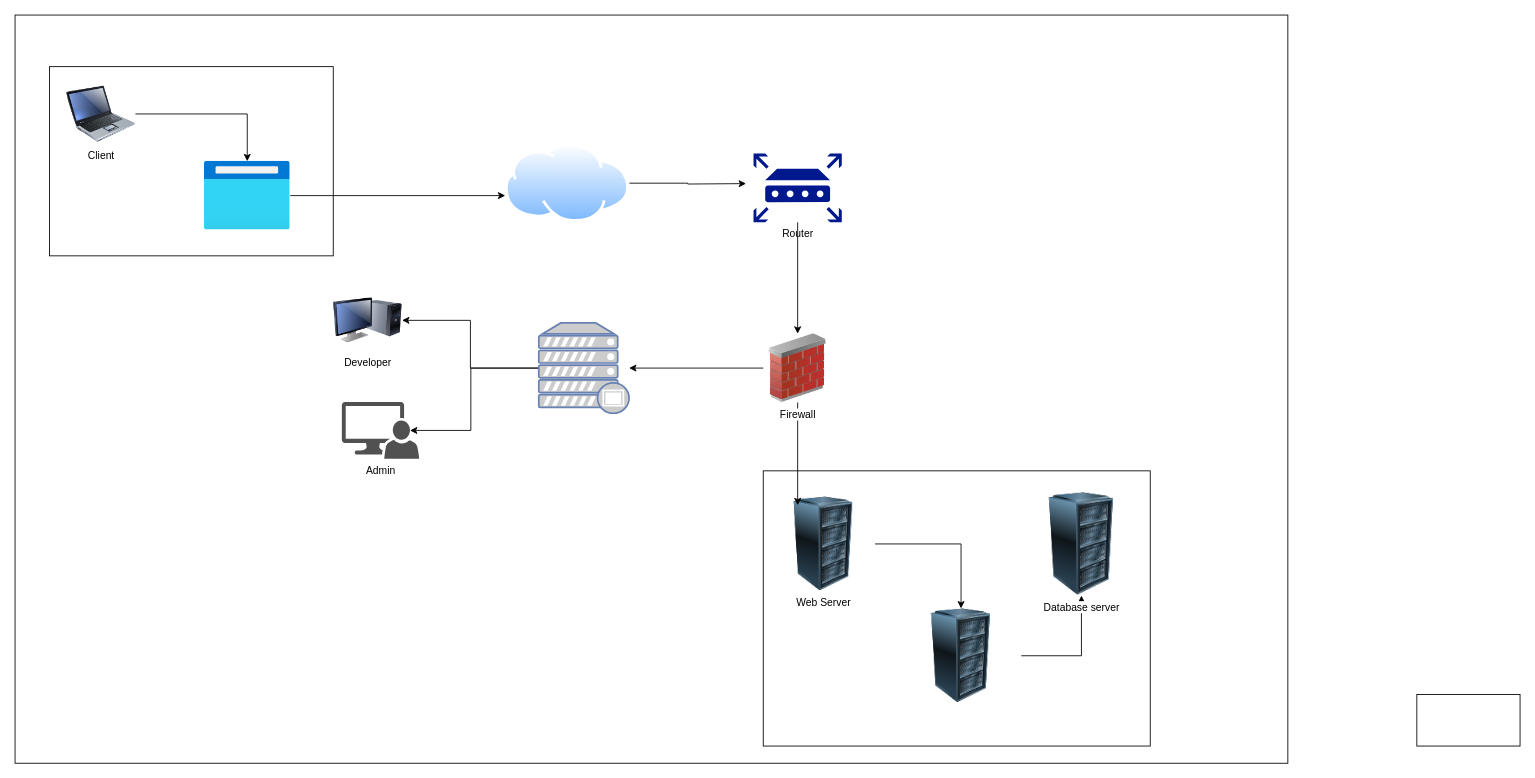
Image size: 1535x778. Some labels were removed from this diagram. Each missing label, with the centre of its shape:
Application sserver: point (960, 655)
Browser: point (247, 195)
Internet: point (567, 183)
Proxy server: point (584, 368)
